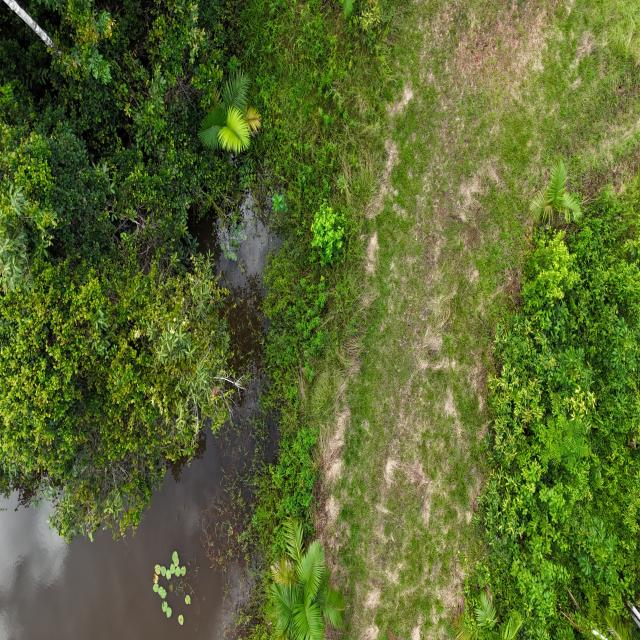vegetation: (456, 166, 639, 638)
